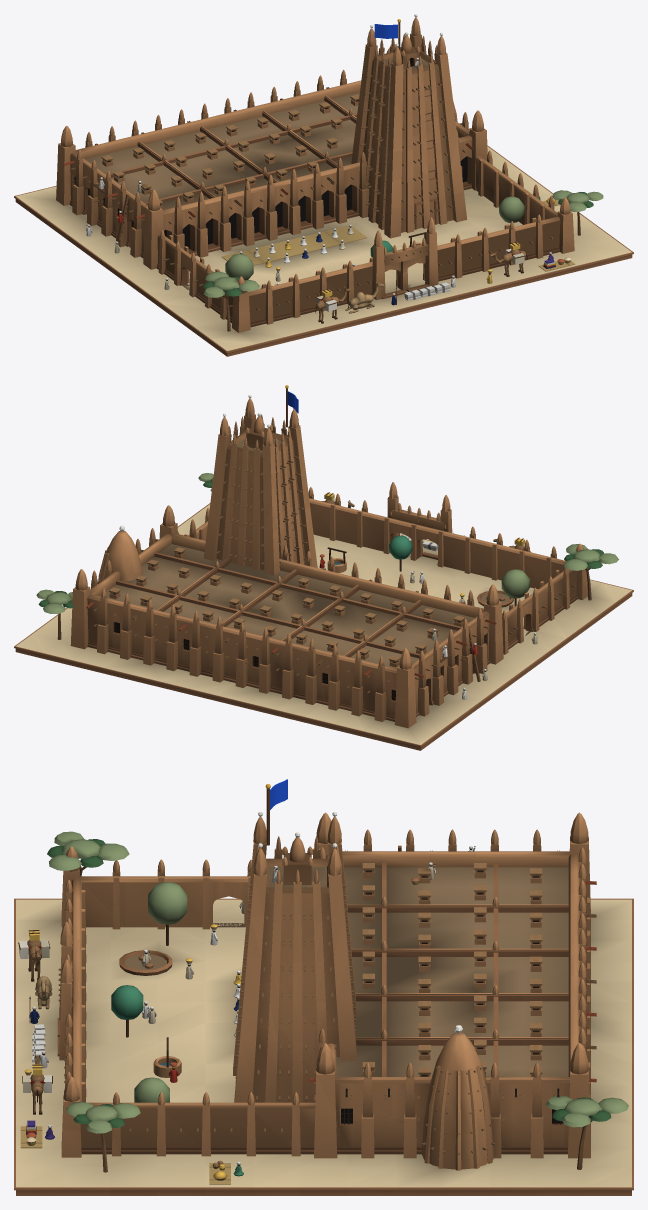
The model's file is lm_djinguereber.glb.
The picture shows the model from 3 angles, top to bottom: view 1: azimuth 30°, elevation 25°; view 2: azimuth 150°, elevation 25°; view 3: azimuth 270°, elevation 25°; orthographic projection. The views are drawn at different scales.
Parts seen in each view (by area): view 1: lm_djinguereber; view 2: lm_djinguereber; view 3: lm_djinguereber.
Boxes of the visible parts, x1=… form: lm_djinguereber: x1=14, y1=14, x2=633, y2=356; lm_djinguereber: x1=14, y1=385, x2=633, y2=750; lm_djinguereber: x1=14, y1=779, x2=633, y2=1195.
Bounding box in the file's own units: 2.23 × 1.1 × 2.
Materials: 1 (1 with a texture image).
